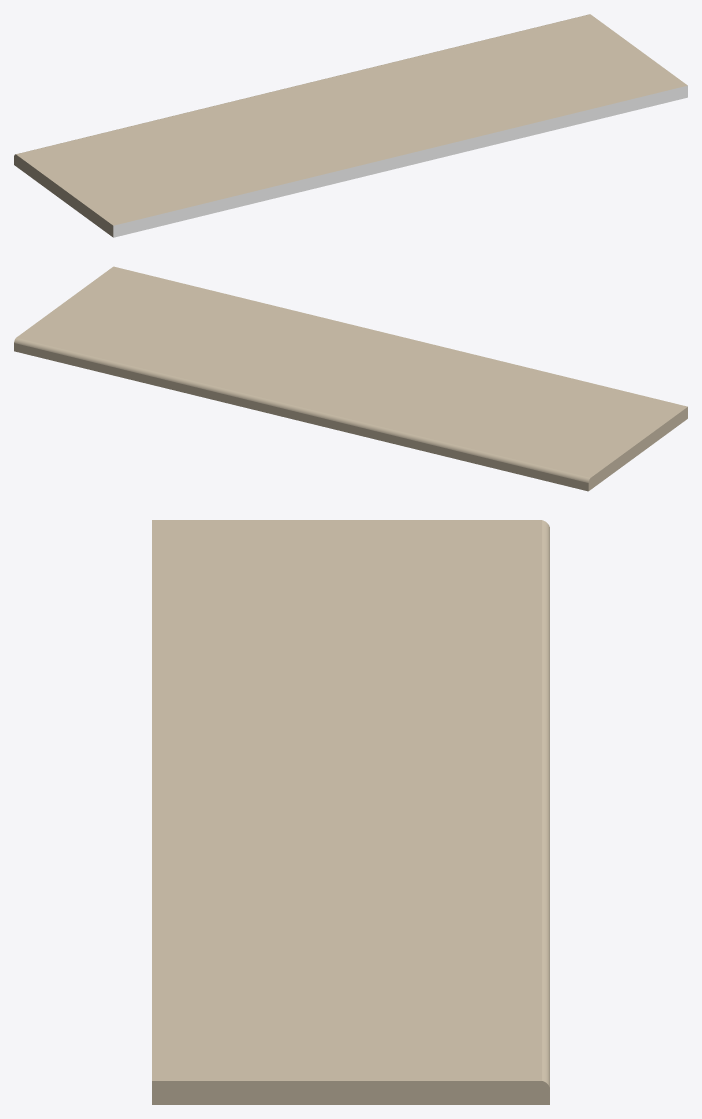
Rendered from Radna_ploca_200cm.glb.
The picture shows the model from 3 angles, top to bottom: view 1: azimuth 30°, elevation 25°; view 2: azimuth 150°, elevation 25°; view 3: azimuth 270°, elevation 25°; orthographic projection. The views are drawn at different scales.
Visible parts, largest first — view 1: Model; view 2: Model; view 3: Model.
Boxes of the visible parts, x1,y1,x2,y2 form: Model: [14, 14, 687, 237]; Model: [14, 266, 687, 491]; Model: [152, 520, 549, 1104].
Bounding box in the file's own units: 2001 × 40 × 600.
